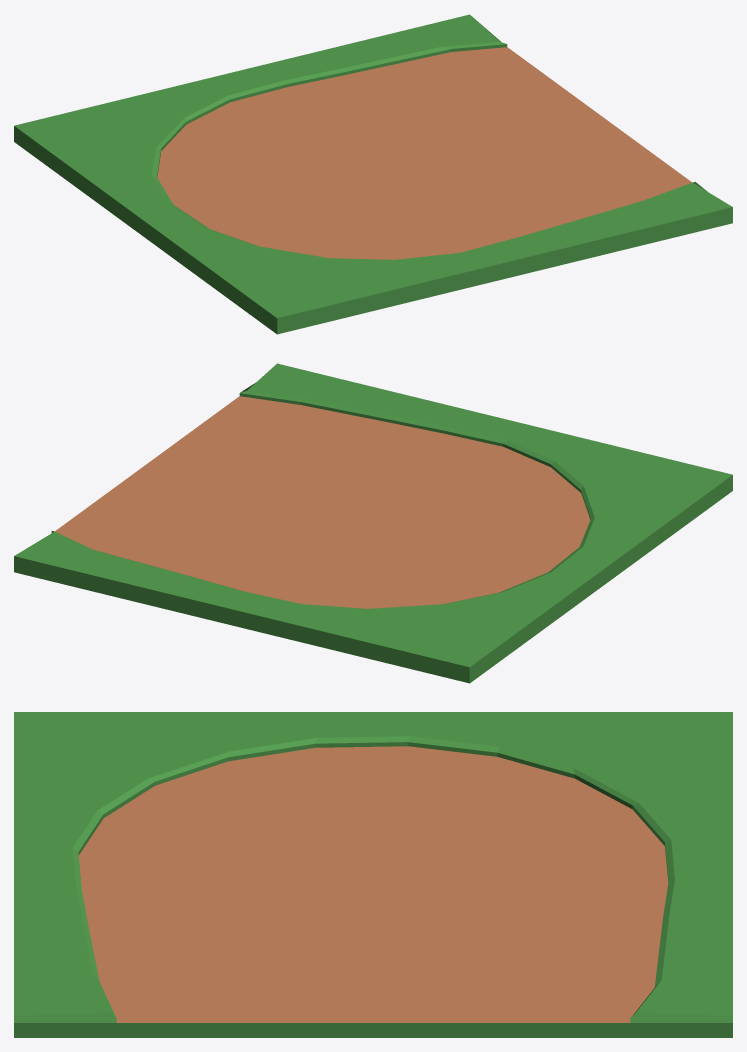
Rendered from f_placeholderGround.fbx.
The picture shows the model from 3 angles, top to bottom: view 1: azimuth 30°, elevation 25°; view 2: azimuth 150°, elevation 25°; view 3: azimuth 270°, elevation 25°; orthographic projection. The views are drawn at different scales.
Parts seen in each view (by area): view 1: Shelves.001; view 2: Shelves.001; view 3: Shelves.001.
Boxes of the visible parts, left/top/right/bottom form: Shelves.001: left=14, top=14, right=732, bottom=334; Shelves.001: left=14, top=363, right=732, bottom=683; Shelves.001: left=14, top=712, right=732, bottom=1037.
Bounding box in the file's own units: 4893 × 4893 × 166.
